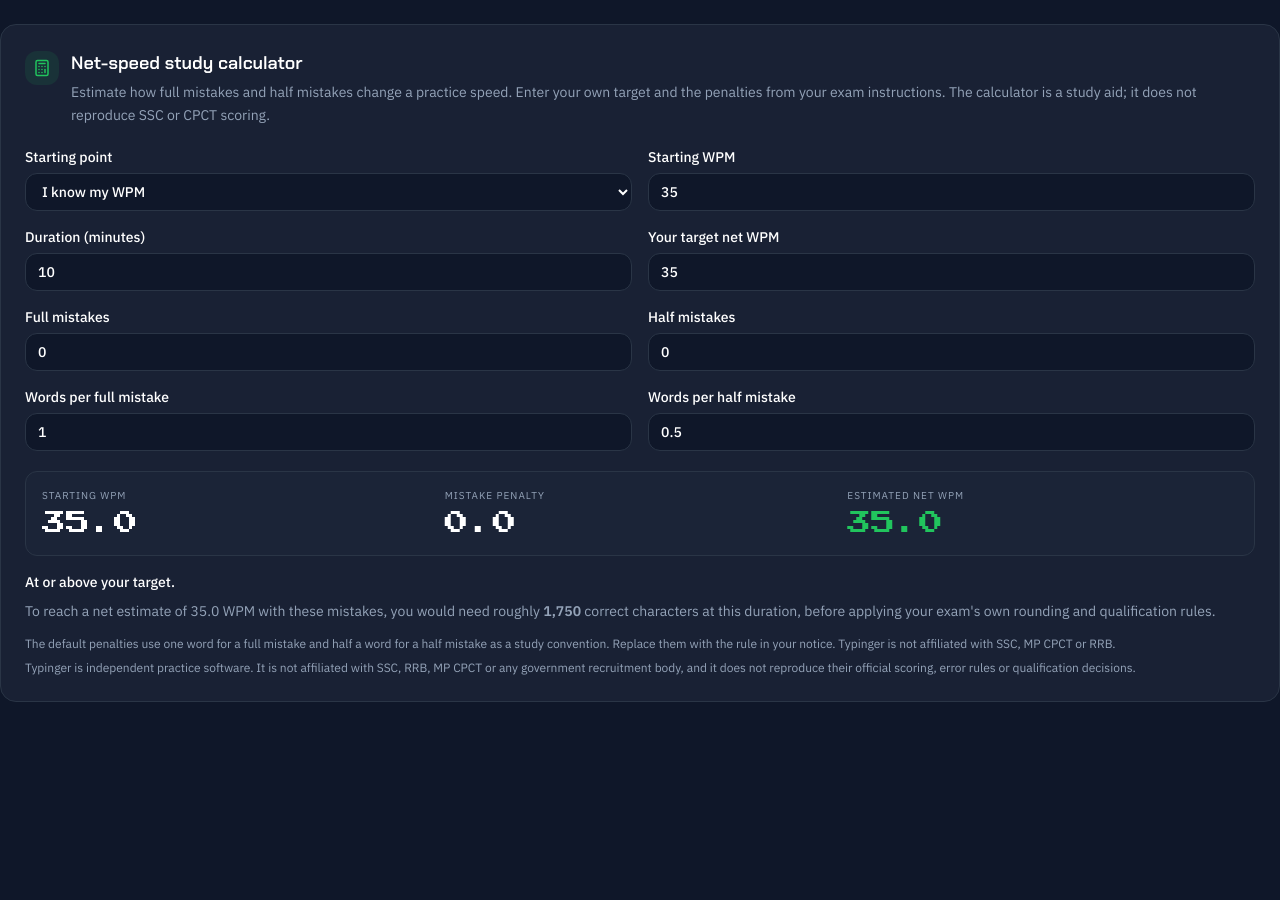
Test: ExamNetSpeedCalculator › subtracts user-entered mistake penalties from the starting speed
The image size is (1280, 900).
Expected: the text with test id "exam-net-speed-gross" reads "35.0", [42,510,138,534]
Expected: the text with test id "exam-net-speed-net" reads "35.0", [847,510,943,534]
Replace the text in the number field with test id "exam-net-speed-full" with "10" at (328,352), box [25,332,632,370]
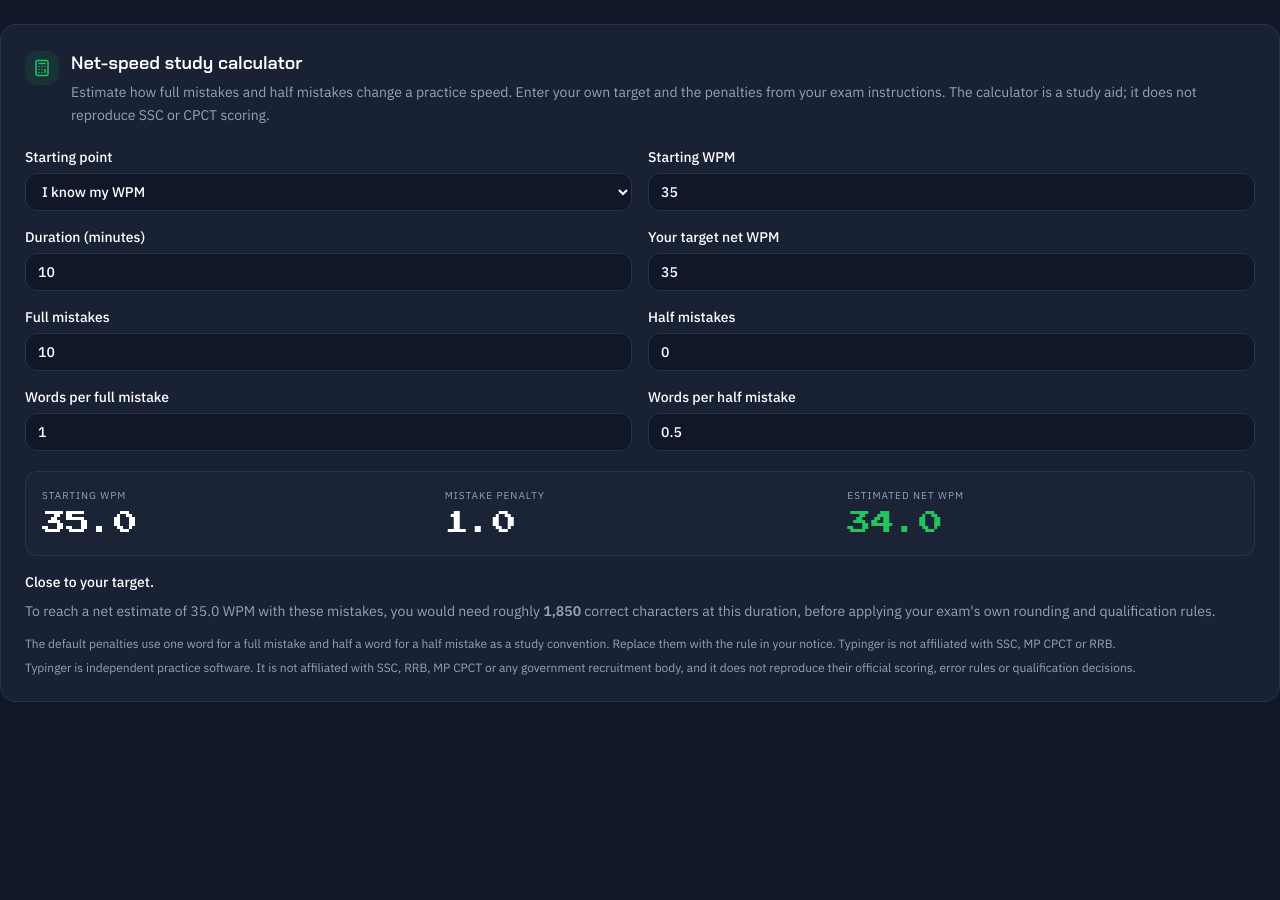
Expected: the text with test id "exam-net-speed-penalty" reads "1.0", [445,510,517,534]
Expected: the text with test id "exam-net-speed-net" reads "34.0", [847,510,943,534]
Expected: the text with test id "exam-net-speed-status" shows "Close to your target", [25,572,150,590]
